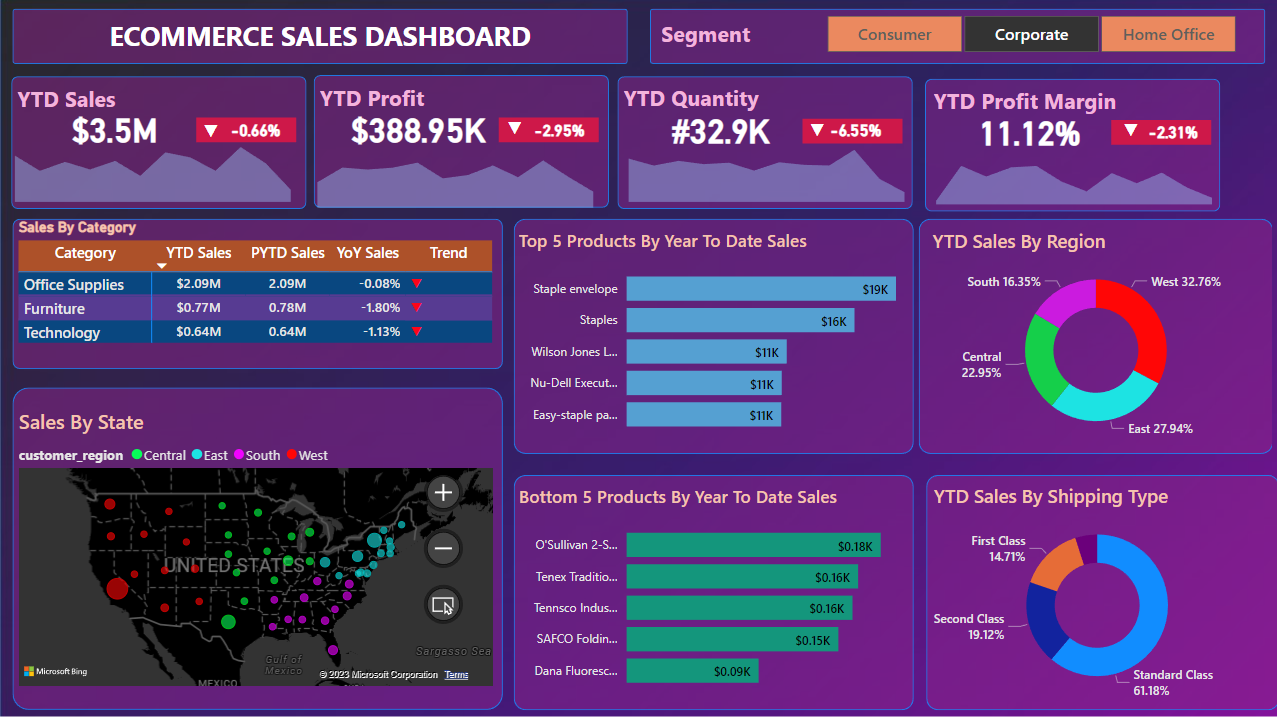

This screenshot's page, from the dashboard's own definition file:
{"tool":"powerbi","page":{"name":"Page 1","canvas":[1280,720],"ordinal":0},"visuals":[{"type":"shape","box":[12,9,615,55],"z":0},{"type":"textbox","box":[60,12,520,50],"z":1000},{"type":"shape","box":[10.9,76,295.5,132.7],"z":2000},{"type":"card","fields":{"Values":["ecommerce_data.YTD Sales"]},"box":[22.9,89.2,184.5,78.4],"z":3000},{"type":"areaChart","fields":{"Category":["Calendar.Month"],"Y":["Sum(ecommerce_data.sales_per_order)"]},"box":[0,127.6,306,79.6],"z":4000},{"type":"shape","box":[196.2,118,100.2,24.7],"z":5000},{"type":"card","fields":{"Values":["ecommerce_data.YoY Sales"]},"box":[207.2,118,96.1,27.4],"z":6000},{"type":"card","fields":{"Values":["ecommerce_data.Sales Icon"]},"box":[196.2,118,28.8,26.1],"z":7000},{"type":"textbox","box":[12.3,78.2,146.8,39.8],"z":8000},{"type":"shape","box":[314,75,295.5,132.7],"z":9000},{"type":"card","fields":{"Values":["ecommerce_data.YTD Profit"]},"box":[326,88.3,184.5,78.4],"z":10000},{"type":"shape","box":[499.3,117,100.2,24.7],"z":11000},{"type":"card","fields":{"Values":["ecommerce_data.YoY Profit"]},"box":[511,117,96,27],"z":12000},{"type":"card","fields":{"Values":["ecommerce_data.Profit Icon"]},"box":[499.5,115.3,28.8,26.1],"z":13000},{"type":"textbox","box":[315.5,77.2,146.8,39.8],"z":14000},{"type":"areaChart","fields":{"Category":["Calendar.Month"],"Y":["Sum(ecommerce_data.profit_per_order)"]},"box":[303,132,306,80],"z":15000},{"type":"shape","box":[617.2,76.2,295.5,132.7],"z":16000},{"type":"card","fields":{"Values":["ecommerce_data.YTD Concatenated Qty"]},"box":[629.2,89.5,184.5,78.4],"z":17000},{"type":"shape","box":[802.6,118.2,100.2,24.7],"z":18000},{"type":"card","fields":{"Values":["ecommerce_data.YoY Qty"]},"box":[807,117,96,28],"z":19000},{"type":"card","fields":{"Values":["ecommerce_data.Qty Icon"]},"box":[803,118,29,27],"z":20000},{"type":"textbox","box":[619,78,184,39],"z":21000},{"type":"areaChart","fields":{"Category":["Calendar.Month"],"Y":["Sum(ecommerce_data.order_quantity)"]},"box":[613.3,127.5,306,79.6],"z":22000},{"type":"shape","box":[925.6,78.2,295.5,132.7],"z":23000},{"type":"card","fields":{"Values":["ecommerce_data.YTD Profit Margin"]},"box":[937.6,91.5,184.5,78.4],"z":24000},{"type":"shape","box":[1111,120.2,100.2,24.7],"z":25000},{"type":"card","fields":{"Values":["ecommerce_data.YoY Profit Margin"]},"box":[1125,119,96,28],"z":26000},{"type":"card","fields":{"Values":["ecommerce_data.Profit Margin Icon"]},"box":[1116,118,29,27],"z":27000},{"type":"areaChart","fields":{"Category":["Calendar.Month"],"Y":["ecommerce_data.Profit Margin"]},"box":[921.7,129.5,306,79.6],"z":29000},{"type":"shape","box":[12,219,490,150],"z":30000},{"type":"pivotTable","title":"Sales By Category","fields":{"Rows":["ecommerce_data.category_name"],"Values":["ecommerce_data.YTD Sales","ecommerce_data.PYTD Sales","ecommerce_data.YoY Sales","ecommerce_data.Sales Icon"]},"box":[14,219,485,150],"z":31000},{"type":"shape","box":[13,388,490,322],"z":32000},{"type":"map","title":"Sales By State","fields":{"Y":["us_states.latitude"],"X":["us_states.longitude"],"Size":["ecommerce_data.YTD Sales"],"Series":["ecommerce_data.customer_region"]},"box":[13.3,407.8,484.4,283.3],"z":33000},{"type":"shape","box":[514,219,400,235],"z":34000},{"type":"shape","box":[514,475,400,235],"z":35000},{"type":"barChart","title":"Top 5 Products By Year To Date Sales","fields":{"Category":["ecommerce_data.product_name"],"Y":["ecommerce_data.YTD Sales"]},"box":[514,229,400,216],"z":36000},{"type":"barChart","title":"Bottom 5 Products By Year To Date Sales","fields":{"Category":["ecommerce_data.product_name"],"Y":["ecommerce_data.YTD Sales"]},"box":[514,485,400,216],"z":37000},{"type":"shape","box":[919,219,354,235],"z":38000},{"type":"shape","box":[926,475,354,235],"z":39000},{"type":"donutChart","title":"YTD Sales By Region","fields":{"Category":["ecommerce_data.customer_region"],"Y":["ecommerce_data.YTD Sales"]},"box":[927,227,337,221],"z":40000},{"type":"donutChart","title":"YTD Sales By Shipping Type","fields":{"Y":["ecommerce_data.YTD Sales"],"Category":["ecommerce_data.shipping_type"]},"box":[929,483,337,221],"z":41000},{"type":"shape","box":[650,8.8,615,55],"z":42000},{"type":"slicer","fields":{"Values":["ecommerce_data.customer_segment"]},"box":[801.2,8.8,458.8,50],"z":43000},{"type":"textbox","box":[656.2,13.8,115,46.2],"z":44000},{"type":"textbox","box":[928.8,81.2,202.5,38.8],"z":44001}]}

Visuals, with their boxes in screenshot pixels (x1, y1, x2, y2), scaled from the page's 1280x720 canvas onto the 1277x717 screenshot:
shape: (x1=12, y1=9, x2=626, y2=64)
textbox: (x1=60, y1=12, x2=579, y2=62)
shape: (x1=11, y1=76, x2=306, y2=208)
card - ecommerce_data.YTD Sales: (x1=23, y1=89, x2=207, y2=167)
areaChart - Calendar.Month x Sum(ecommerce_data.sales_per_order): (x1=0, y1=127, x2=305, y2=206)
shape: (x1=196, y1=118, x2=296, y2=142)
card - ecommerce_data.YoY Sales: (x1=207, y1=118, x2=303, y2=145)
card - ecommerce_data.Sales Icon: (x1=196, y1=118, x2=224, y2=143)
textbox: (x1=12, y1=78, x2=159, y2=118)
shape: (x1=313, y1=75, x2=608, y2=207)
card - ecommerce_data.YTD Profit: (x1=325, y1=88, x2=509, y2=166)
shape: (x1=498, y1=117, x2=598, y2=141)
card - ecommerce_data.YoY Profit: (x1=510, y1=117, x2=606, y2=143)
card - ecommerce_data.Profit Icon: (x1=498, y1=115, x2=527, y2=141)
textbox: (x1=315, y1=77, x2=461, y2=117)
areaChart - Calendar.Month x Sum(ecommerce_data.profit_per_order): (x1=302, y1=131, x2=608, y2=211)
shape: (x1=616, y1=76, x2=911, y2=208)
card - ecommerce_data.YTD Concatenated Qty: (x1=628, y1=89, x2=812, y2=167)
shape: (x1=801, y1=118, x2=901, y2=142)
card - ecommerce_data.YoY Qty: (x1=805, y1=117, x2=901, y2=144)
card - ecommerce_data.Qty Icon: (x1=801, y1=118, x2=830, y2=144)
textbox: (x1=618, y1=78, x2=801, y2=117)
areaChart - Calendar.Month x Sum(ecommerce_data.order_quantity): (x1=612, y1=127, x2=917, y2=206)
shape: (x1=923, y1=78, x2=1218, y2=210)
card - ecommerce_data.YTD Profit Margin: (x1=935, y1=91, x2=1119, y2=169)
shape: (x1=1108, y1=120, x2=1208, y2=144)
card - ecommerce_data.YoY Profit Margin: (x1=1122, y1=119, x2=1218, y2=146)
card - ecommerce_data.Profit Margin Icon: (x1=1113, y1=118, x2=1142, y2=144)
areaChart - Calendar.Month x ecommerce_data.Profit Margin: (x1=920, y1=129, x2=1225, y2=208)
shape: (x1=12, y1=218, x2=501, y2=367)
"Sales By Category" pivotTable: (x1=14, y1=218, x2=498, y2=367)
shape: (x1=13, y1=386, x2=502, y2=707)
"Sales By State" map: (x1=13, y1=406, x2=497, y2=688)
shape: (x1=513, y1=218, x2=912, y2=452)
shape: (x1=513, y1=473, x2=912, y2=707)
"Top 5 Products By Year To Date Sales" barChart: (x1=513, y1=228, x2=912, y2=443)
"Bottom 5 Products By Year To Date Sales" barChart: (x1=513, y1=483, x2=912, y2=698)
shape: (x1=917, y1=218, x2=1270, y2=452)
shape: (x1=924, y1=473, x2=1276, y2=707)
"YTD Sales By Region" donutChart: (x1=925, y1=226, x2=1261, y2=446)
"YTD Sales By Shipping Type" donutChart: (x1=927, y1=481, x2=1263, y2=701)
shape: (x1=648, y1=9, x2=1262, y2=64)
slicer - ecommerce_data.customer_segment: (x1=799, y1=9, x2=1257, y2=59)
textbox: (x1=655, y1=14, x2=769, y2=60)
textbox: (x1=927, y1=81, x2=1129, y2=120)
